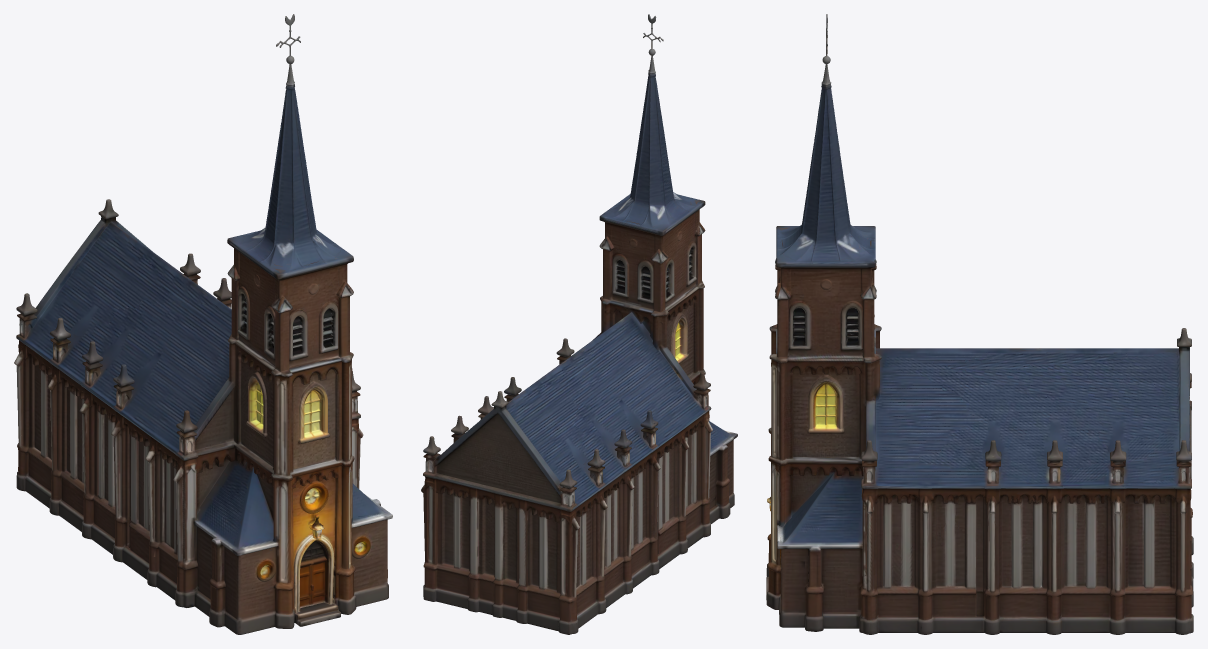
File: church-night.glb
3 renders of one model, left to right at view 1: azimuth 30°, elevation 25°; view 2: azimuth 150°, elevation 25°; view 3: azimuth 270°, elevation 25°, orthographic. The views are drawn at different scales.
Visible parts, largest first — view 1: node_0; view 2: node_0; view 3: node_0.
Boxes of the visible parts, x1,y1,x2,y2 form: node_0: [14, 14, 392, 634]; node_0: [421, 14, 737, 634]; node_0: [766, 14, 1193, 634].
Size of the model in its own units: 0.3257 by 0.9639 by 0.6489.
Materials: 1 (1 with a texture image).
